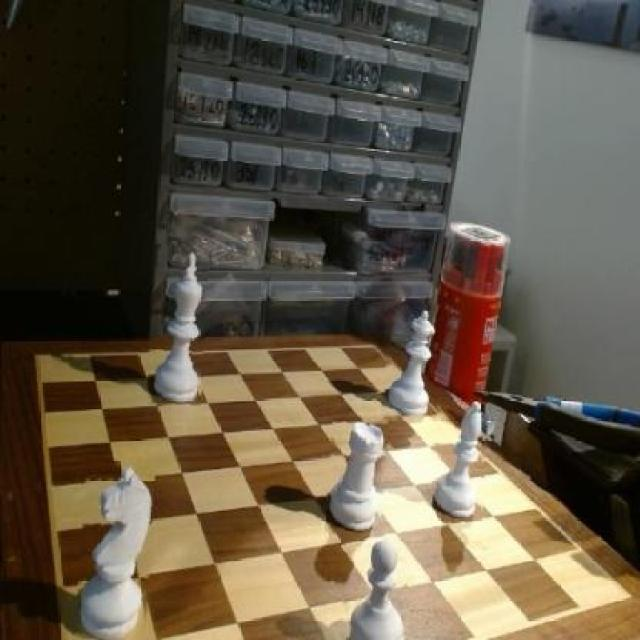black-rook: (432, 388, 488, 526)
white-bishop: (150, 245, 208, 407)
white-king: (78, 457, 154, 639)
white-knight: (340, 532, 408, 640)
white-pawn: (385, 303, 440, 422)
white-queen: (328, 415, 388, 537)
